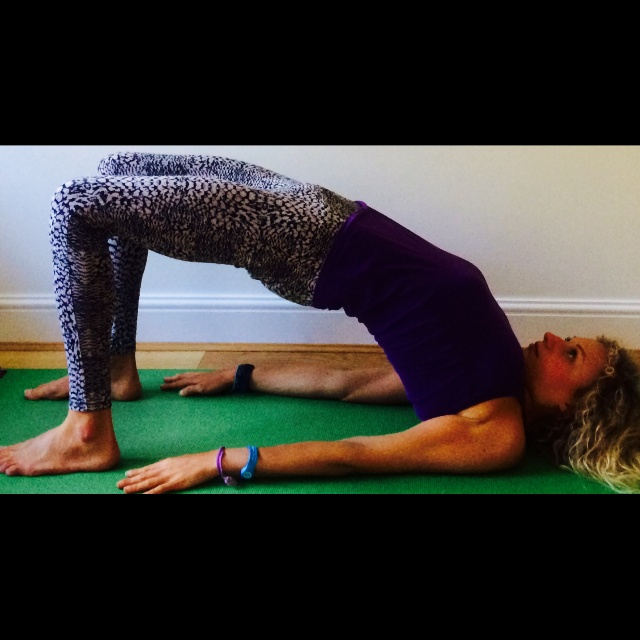Bridge_Pose: (3, 144, 640, 494)
